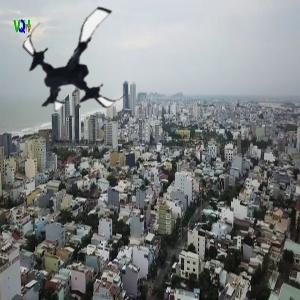drone: (19, 2, 140, 123)
